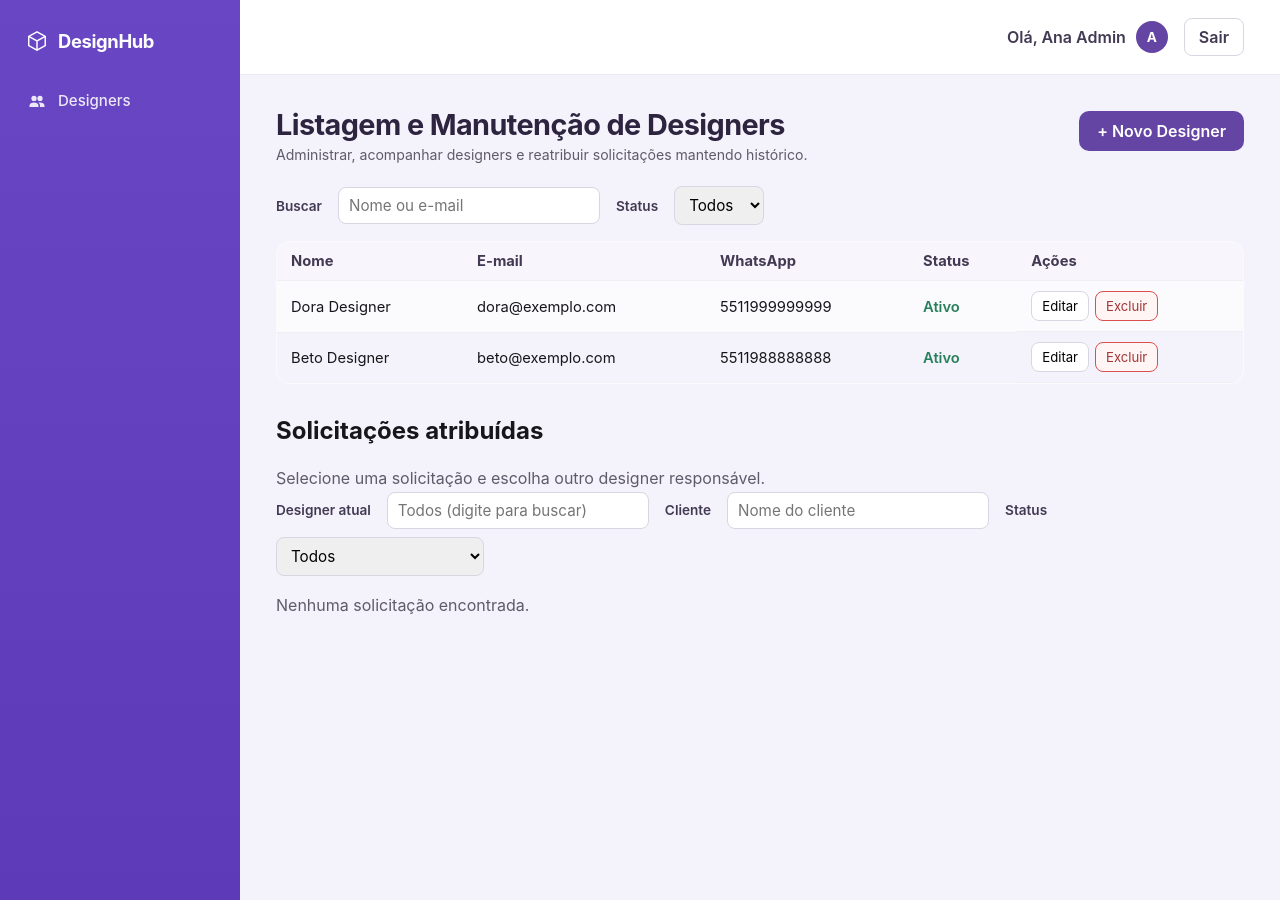
Test: DesignersPage (RF001/RF015) › item 4 (rodada final): estratégia obrigatória de inativação com pendências › backend rejeita com DESIGNER_PENDENCIAS e a UI mostra o painel de estratégia com a lista recebida
expect the cell "Dora Designer" is shown: met, box left=276, top=281, right=463, bottom=332
What coordinates should you click on to do the following:
click the button "Excluir" in the row of "Dora Designer"
I would click on:
 (1127, 306)
Its box is left=1095, top=291, right=1158, bottom=321.
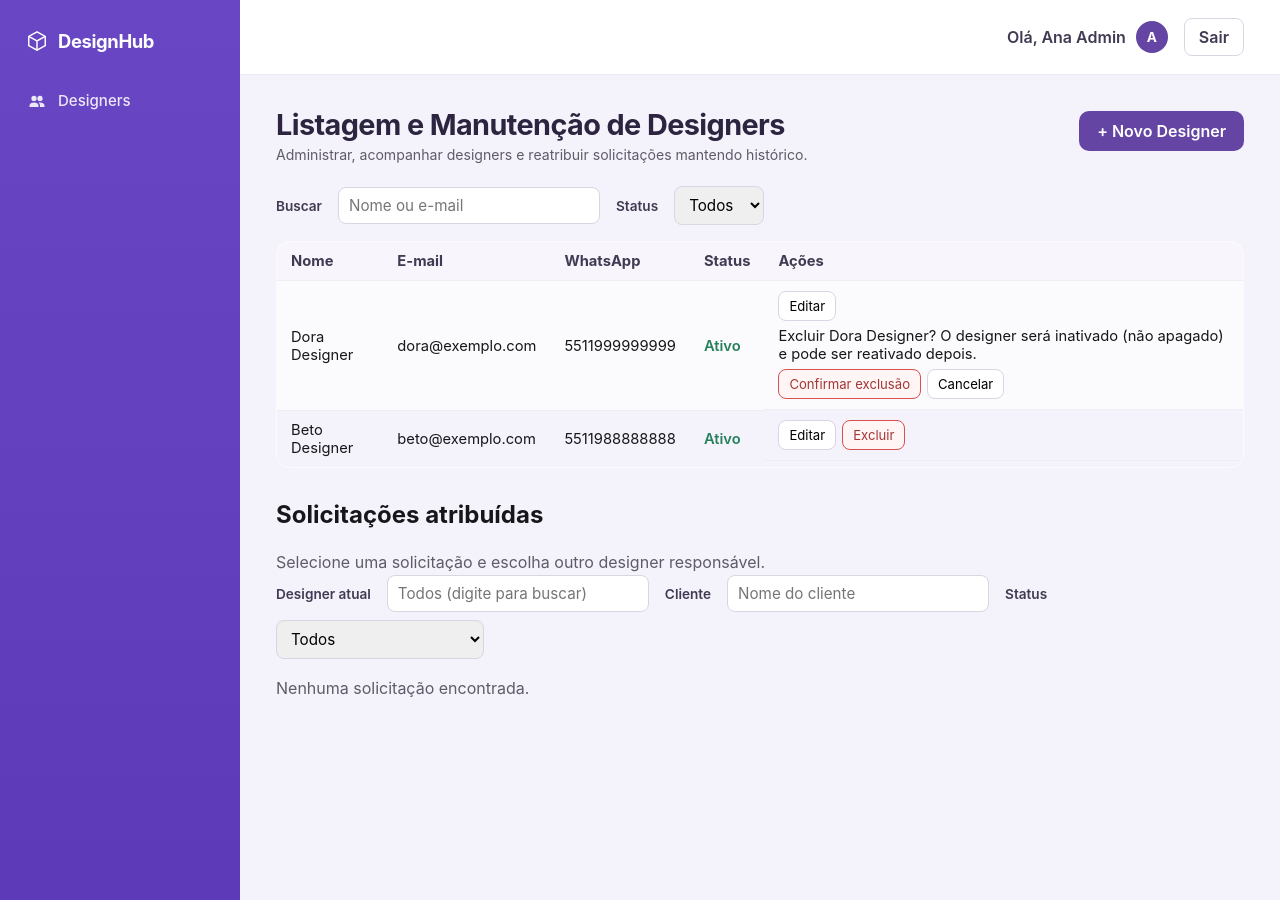
What coordinates should you click on to do the following:
click the button "Confirmar exclusão"
I would click on:
 (850, 384)
Its box is left=778, top=369, right=921, bottom=399.
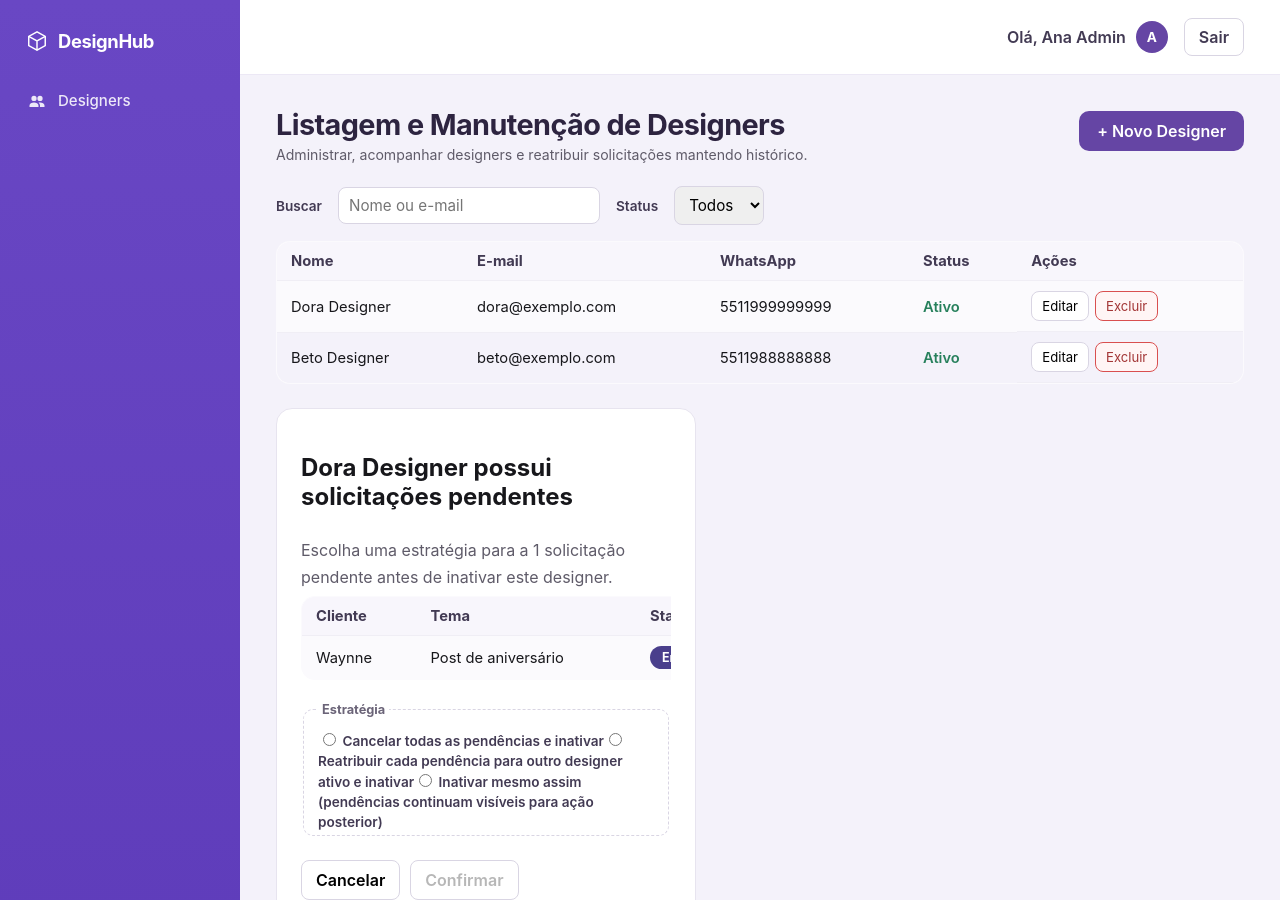
expect the button "Confirmar" is disabled: met, box left=410, top=860, right=519, bottom=899
expect the heading "Dora Designer possui solicitações pendentes" is shown: met, box left=301, top=453, right=573, bottom=511
expect the text "Waynne" is shown: met, box left=302, top=636, right=416, bottom=680
